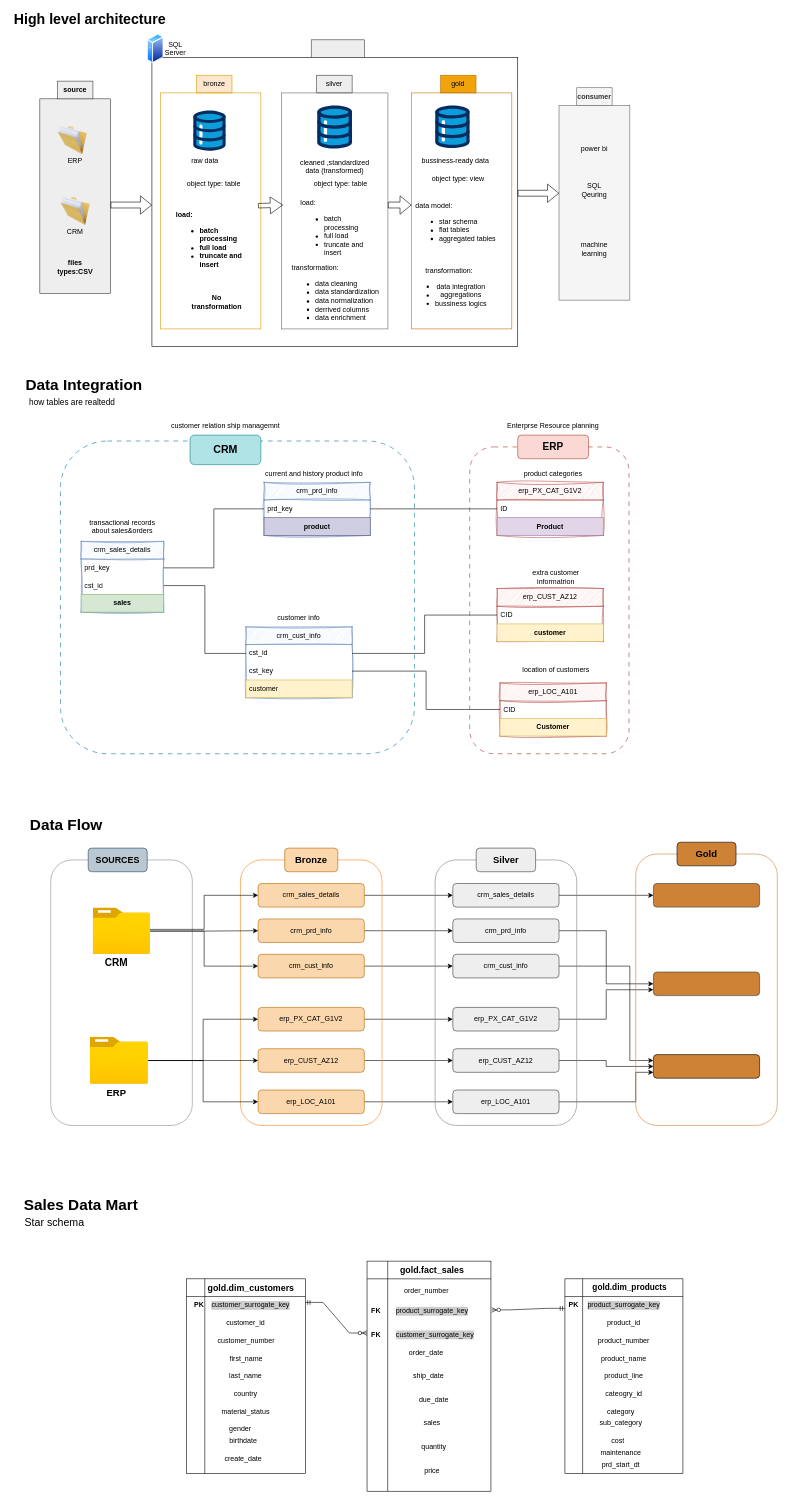
This 788x1502 diagram has some shape labels left out. Here are the shapes that lost their labels. From the top down, the box of each, then its label:
(311, 39, 364, 58): data warehouse
(653, 883, 760, 907): fact_sales
(653, 971, 760, 996): dim_products
(653, 1054, 760, 1078): dim_customers
